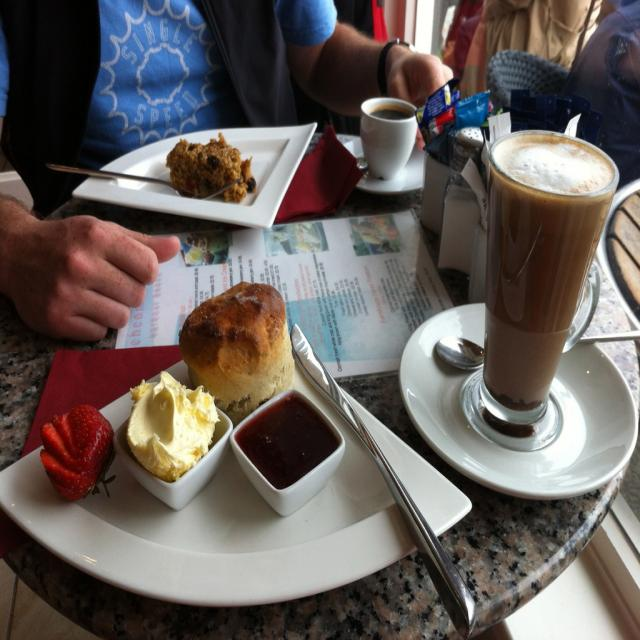Coffee: (467, 124, 612, 434)
